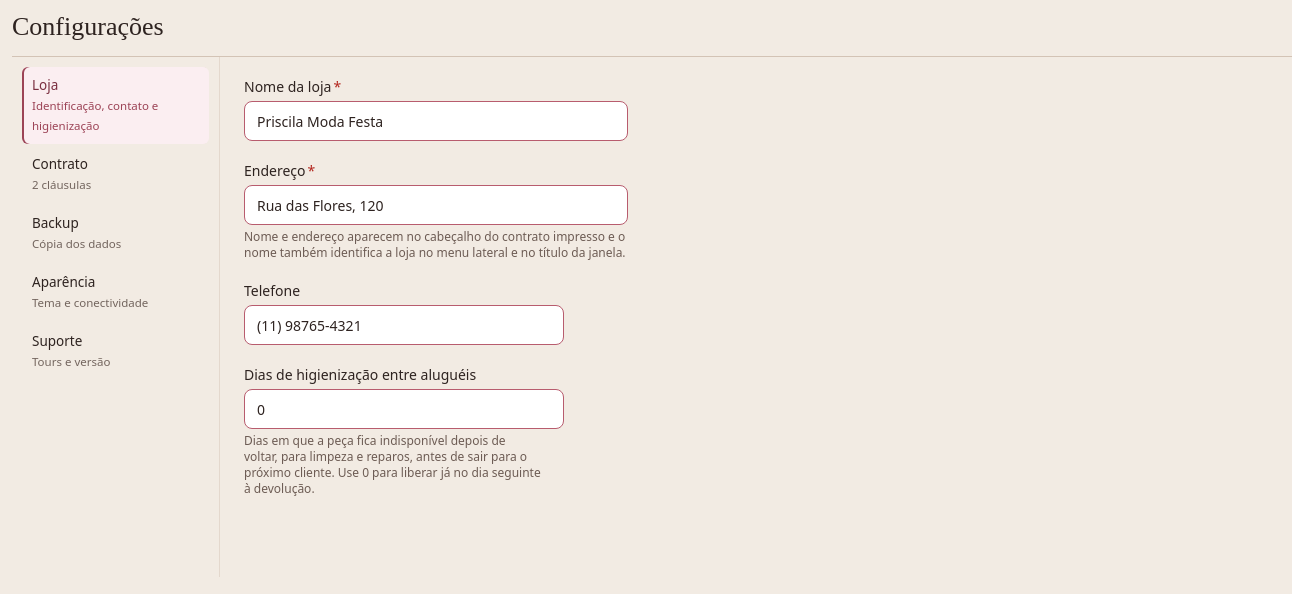
Test: validation feedback › CRITICAL: says why a save was refused, from whichever section is on screen
Clear the field labelled "Endereço" at (436, 205), box [244,185,628,225]
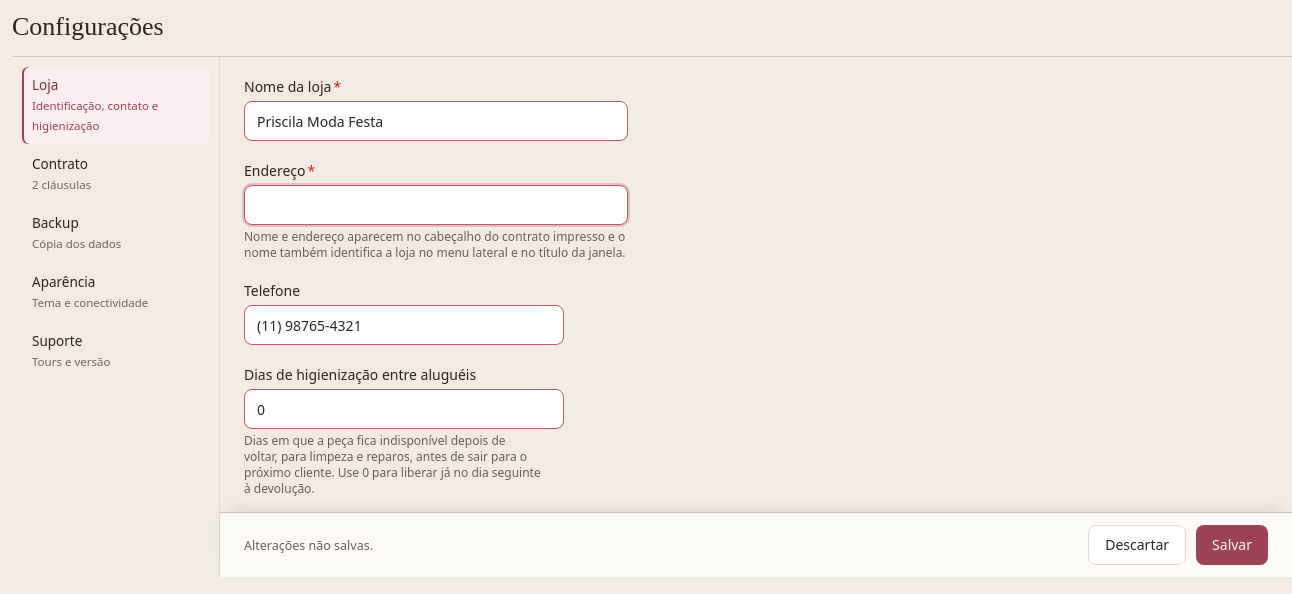
Click the button "Contrato 2 cláusulas" at (116, 174), box [22,146,209,203]
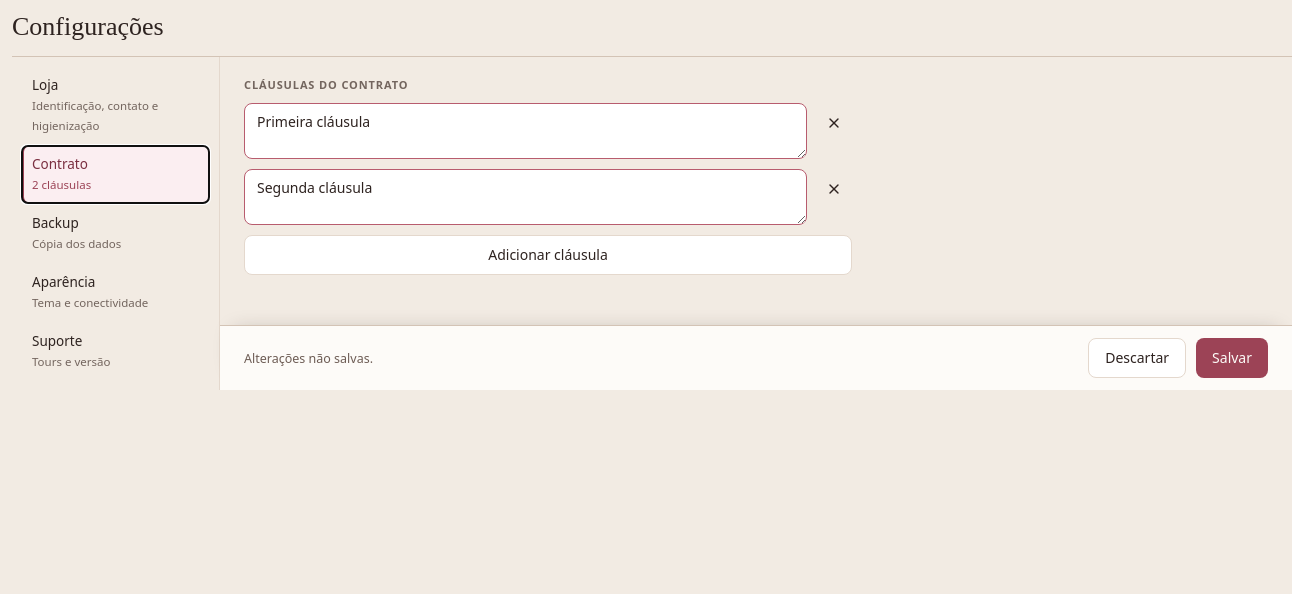
Click the button "Salvar" at (1232, 358), box [1196,338,1268,378]
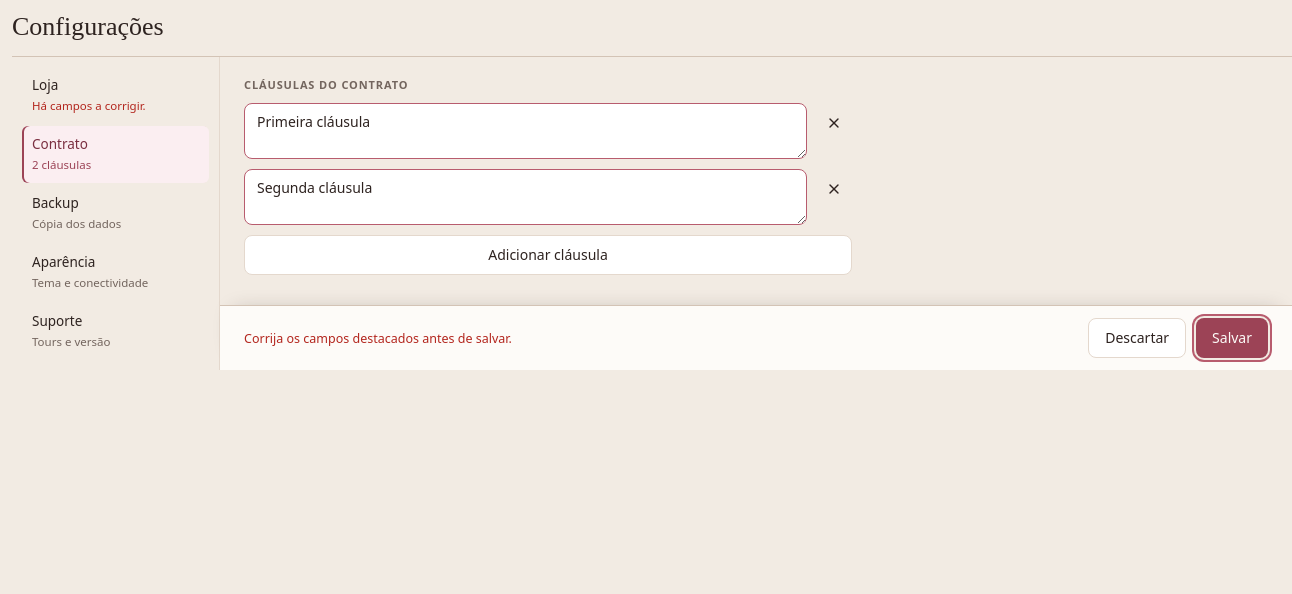
Expected: the text "Corrija os campos destacados antes de salvar." is shown, [244,330,512,346]
Expected: the button "Loja Há campos a corrigir." is shown, [22,67,209,124]
